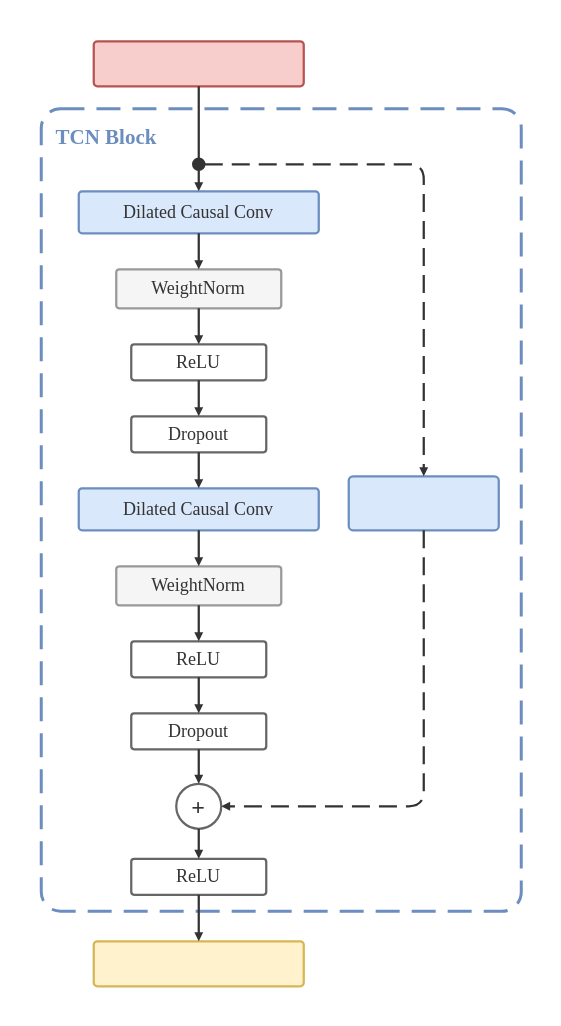
Some shapes in this 561 by 1026 pixel diagram are drawn without their labels. The shapes that lost their labels are listed below. From the top down, each one's box as (x1, y1, x2, y2) in pixels, then its label:
(92, 39, 304, 87): Input (C in x T)
(347, 474, 499, 531): 1x1 Conv (if C in ≠ C out )
(92, 939, 304, 987): Output (C out x T)
